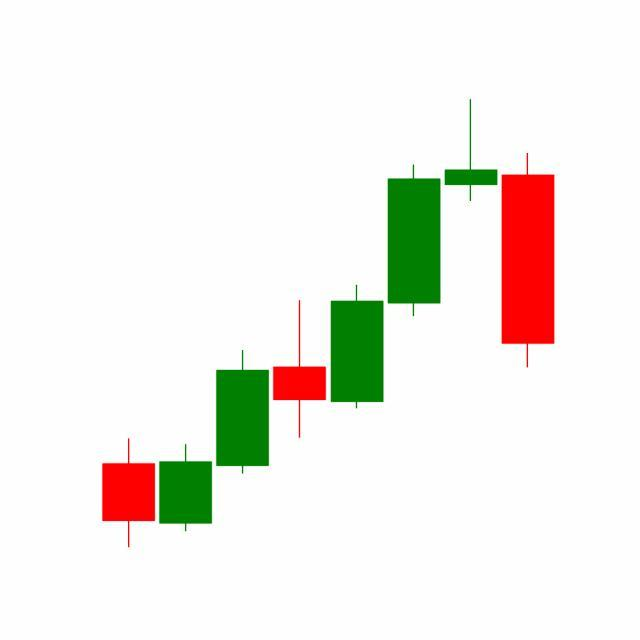Advance Block: (328, 99, 500, 413)
